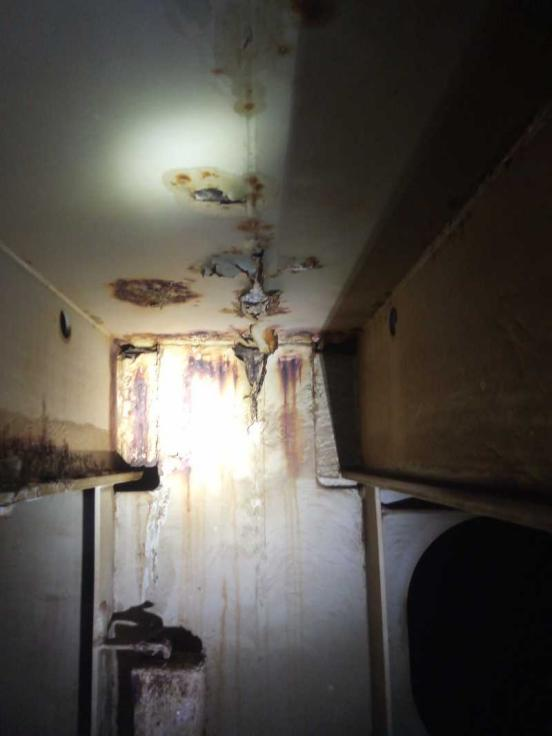corrosion: (204, 227, 329, 321), (0, 428, 127, 508), (267, 351, 316, 490), (118, 358, 168, 459), (169, 161, 264, 210), (105, 264, 202, 307), (227, 342, 276, 407), (166, 352, 242, 388), (52, 312, 80, 345)
